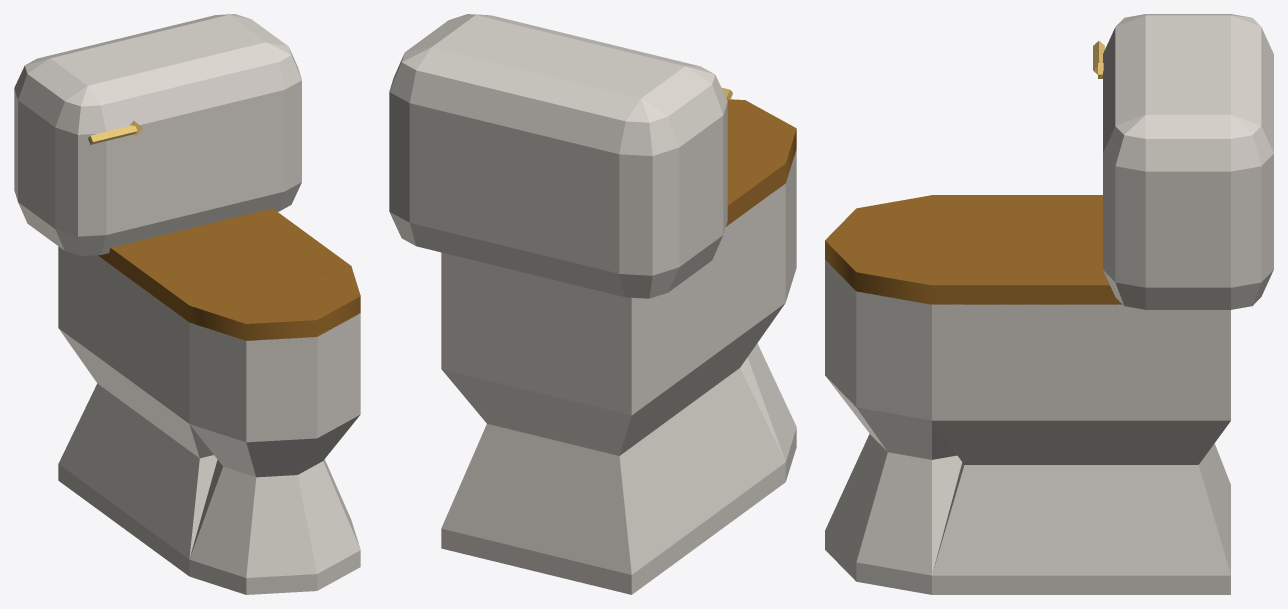
The model's file is Toilet_v02.fbx.
3 renders of one model, left to right at view 1: azimuth 30°, elevation 25°; view 2: azimuth 150°, elevation 25°; view 3: azimuth 270°, elevation 25°, orthographic. The views are drawn at different scales.
Visible parts, largest first — view 1: Cylinder_1_2, cistern, lid, Cylinder_1, flush; view 2: Cylinder_1_2, cistern, Cylinder_1, lid; view 3: Cylinder_1_2, cistern, lid, Cylinder_1.
Boxes of the visible parts, x1=… form: Cylinder_1_2: x1=58, y1=246, x2=360, y2=594; cistern: x1=14, y1=14, x2=301, y2=255; lid: x1=98, y1=208, x2=351, y2=322; Cylinder_1: x1=189, y1=266, x2=360, y2=340; flush: x1=88, y1=125, x2=137, y2=144; Cylinder_1_2: x1=441, y1=149, x2=796, y2=594; cistern: x1=389, y1=14, x2=727, y2=298; Cylinder_1: x1=727, y1=99, x2=796, y2=181; lid: x1=726, y1=149, x2=785, y2=226; Cylinder_1_2: x1=825, y1=260, x2=1230, y2=594; cistern: x1=1103, y1=14, x2=1273, y2=309; lid: x1=931, y1=195, x2=1122, y2=304; Cylinder_1: x1=825, y1=195, x2=931, y2=304.
Size of the model in its own units: 73.88 by 123 by 103.
